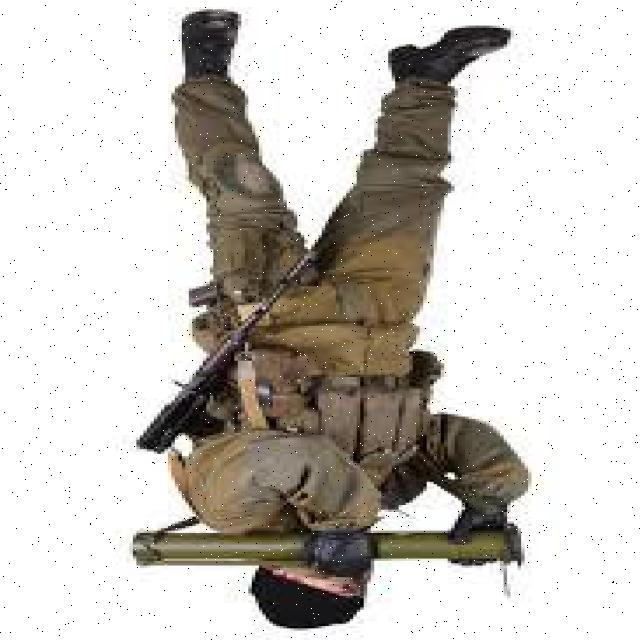bazooka: (126, 513, 544, 592)
